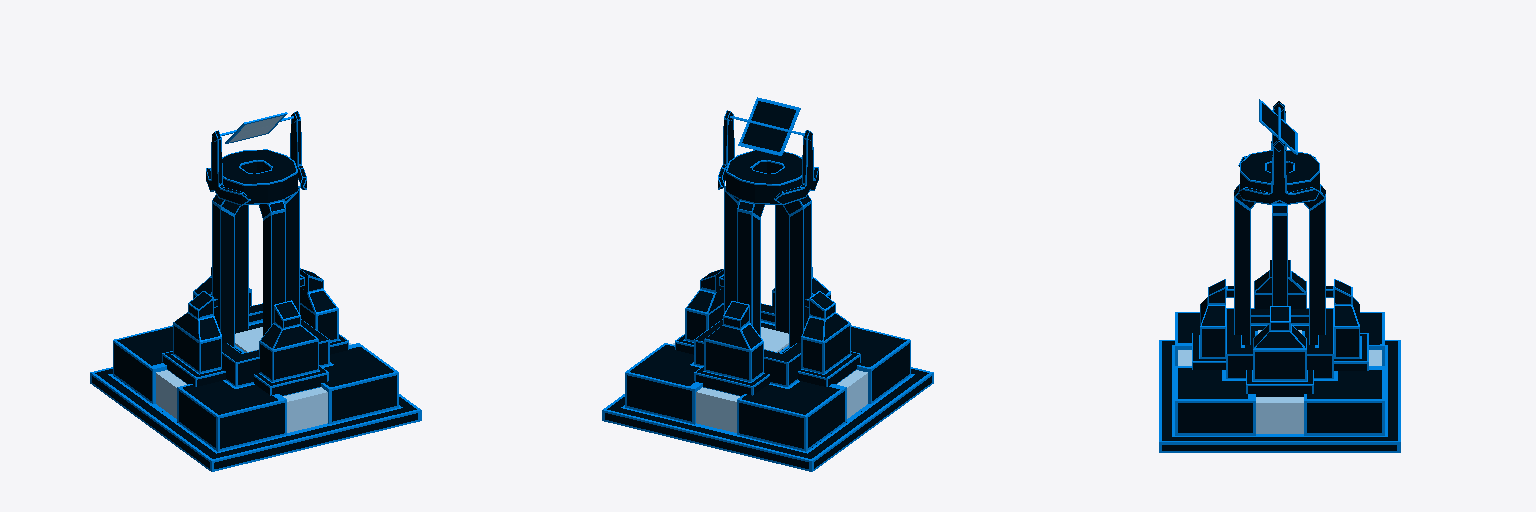
The picture shows the model from 3 angles: view 1: azimuth 30°, elevation 25°; view 2: azimuth 150°, elevation 25°; view 3: azimuth 270°, elevation 25°; orthographic projection.
Parts seen in each view (by area): view 1: Laser_L1_Base, Laser_L1_Support, Box005, Box009, Laser_L1_Mirror, Box008; view 2: Laser_L1_Base, Laser_L1_Support, Box007, Laser_L1_Mirror, Box009, Box008; view 3: Laser_L1_Base, Laser_L1_Support, Box008, Laser_L1_Mirror, Box007, Box005, Box009.
Part boxes in pixels (x1,y1,x2,y2): Laser_L1_Base: (90,303,421,471); Laser_L1_Support: (212,149,299,347); Box005: (254,300,328,395); Box009: (162,291,225,386); Laser_L1_Mirror: (206,111,306,205); Box008: (300,268,348,354); Laser_L1_Base: (602,303,933,471); Laser_L1_Support: (724,150,811,347); Box007: (694,301,769,396); Laser_L1_Mirror: (718,97,818,204); Box009: (798,291,860,386); Box008: (675,269,723,354); Laser_L1_Base: (1159,308,1400,452); Laser_L1_Support: (1234,150,1325,344); Box008: (1246,306,1313,396); Laser_L1_Mirror: (1238,99,1319,204); Box007: (1326,279,1368,370); Box005: (1192,279,1233,369); Box009: (1254,260,1306,308).
Size of the model in its own units: 20 by 26.6 by 20.
1 materials, 1 textured.